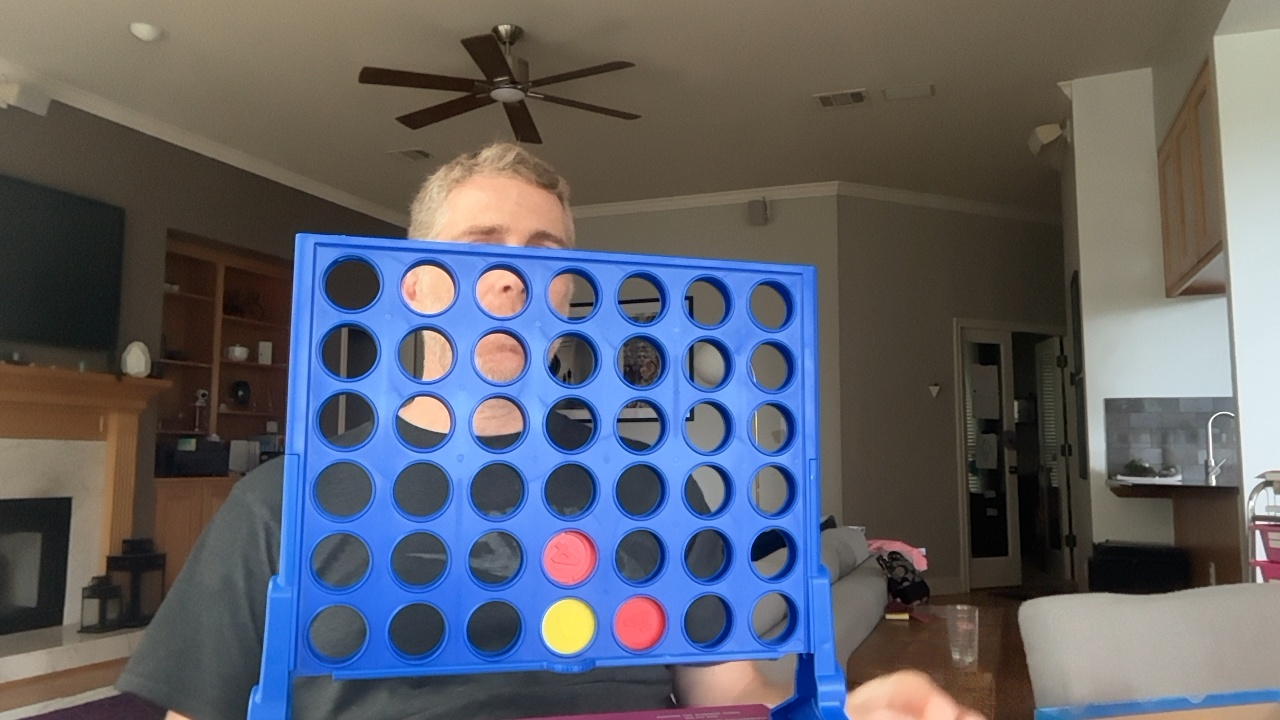red piece: (543, 530, 597, 585), (614, 596, 665, 651)
yellow piece: (542, 598, 596, 655)
